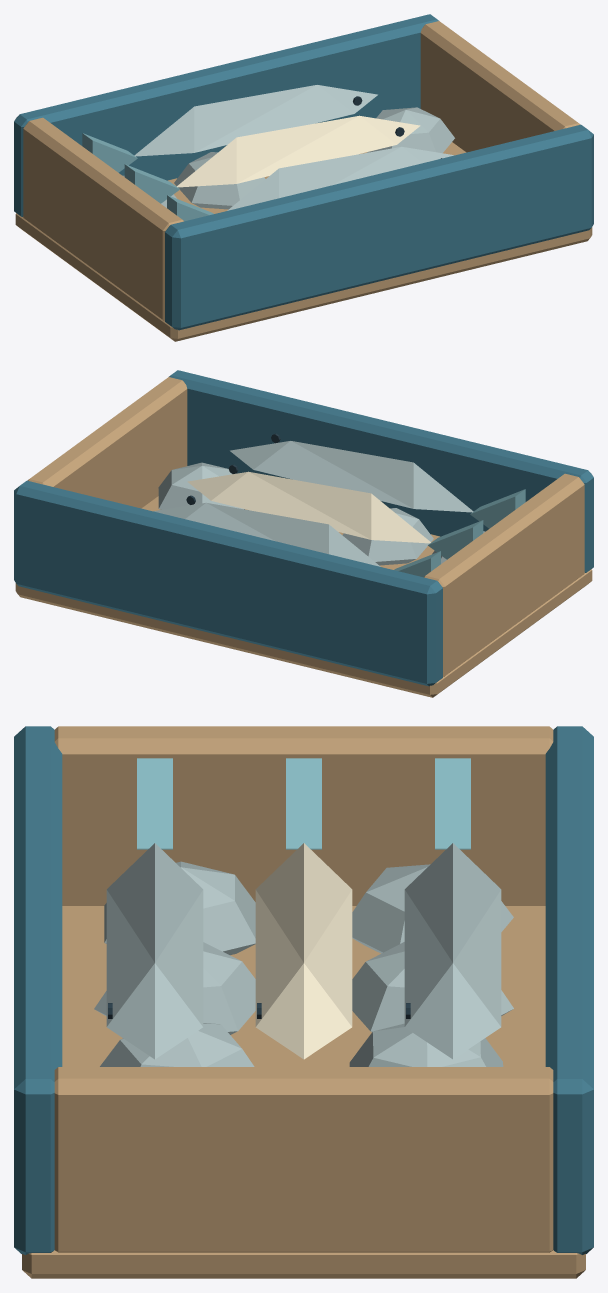
Rendered from 10_Fresh_Catch_Crate.glb.
3 renders of one model, top to bottom at view 1: azimuth 30°, elevation 25°; view 2: azimuth 150°, elevation 25°; view 3: azimuth 270°, elevation 25°, orthographic. The views are drawn at different scales.
Visible parts, largest first — view 1: 10_Fresh_Catch_Crate__Body; view 2: 10_Fresh_Catch_Crate__Body; view 3: 10_Fresh_Catch_Crate__Body.
Boxes of the visible parts, bbox=[...] form: 10_Fresh_Catch_Crate__Body: bbox=[14, 14, 593, 341]; 10_Fresh_Catch_Crate__Body: bbox=[14, 370, 593, 697]; 10_Fresh_Catch_Crate__Body: bbox=[14, 726, 593, 1278].
Size of the model in its own units: 2.13 by 0.55 by 1.44.
1 material, 1 textured.
